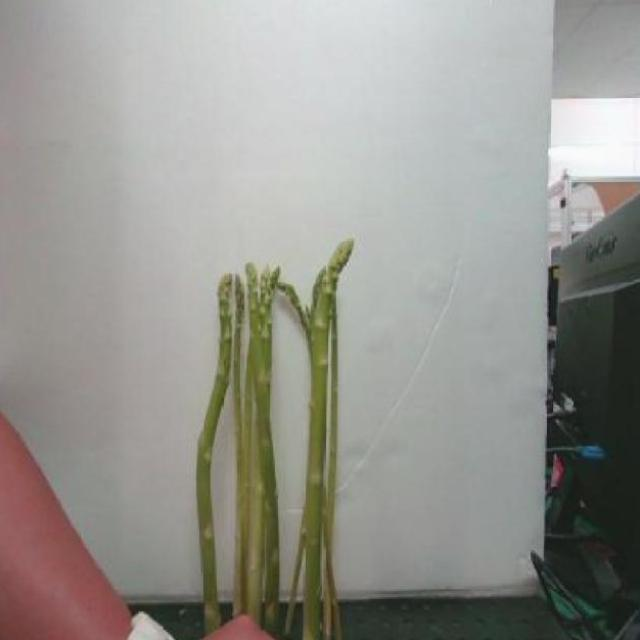aspargus: (194, 242, 351, 640)
